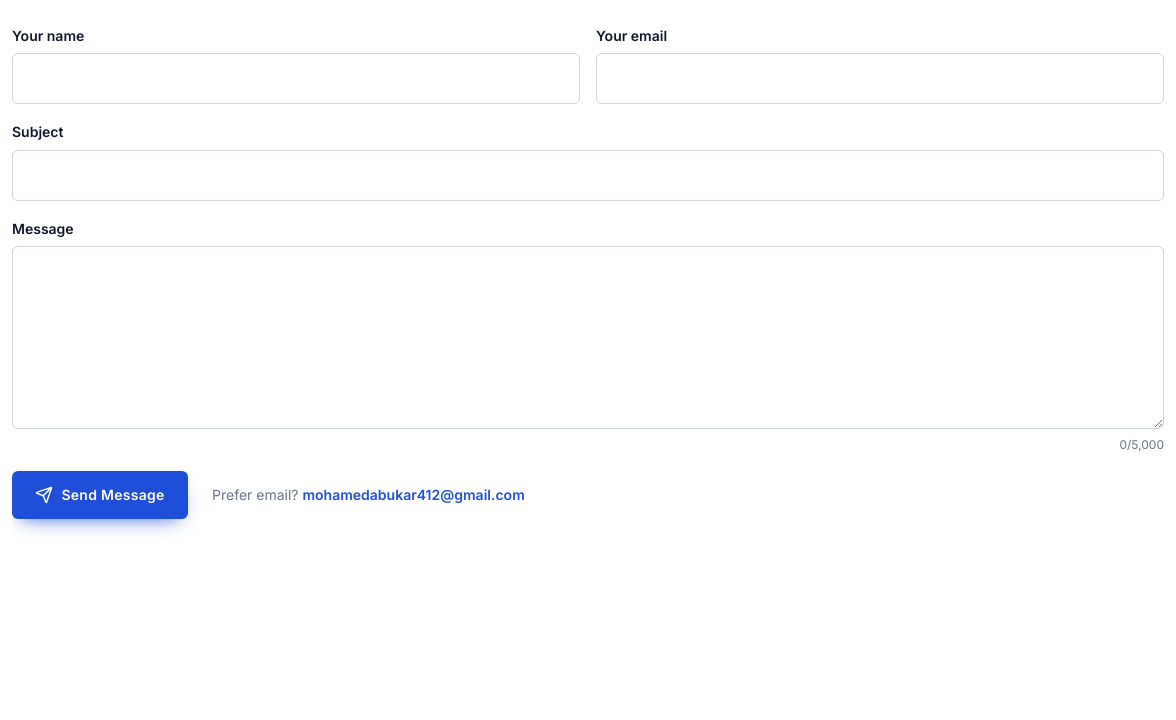
Scenario: ContactForm › shows success and clears the form only when the server confirms
This screenshot has width=1176, height=720.
Type "Jane Doe" into the field labelled "Your name" at (296, 79), box [12,54,580,104]
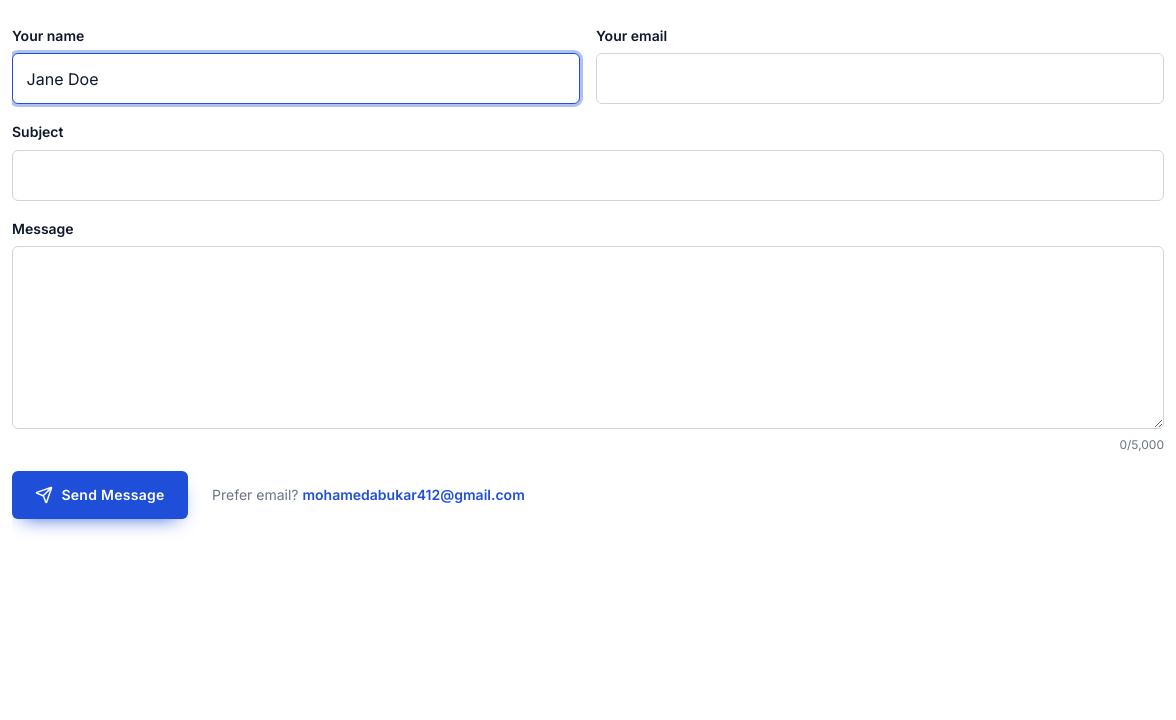
Type "jane@example.com" into the field labelled "Your email" at (880, 79), box [596,54,1164,104]
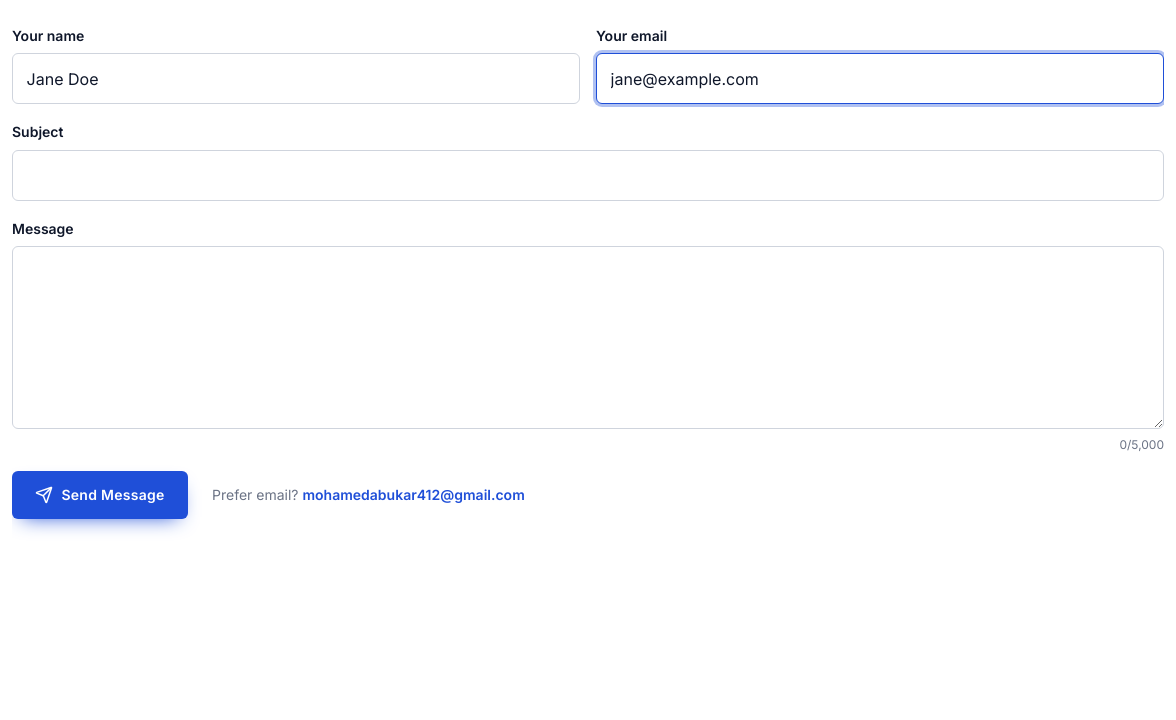
Type "Project enquiry" into the field labelled "Subject" at (588, 175), box [12,150,1164,200]
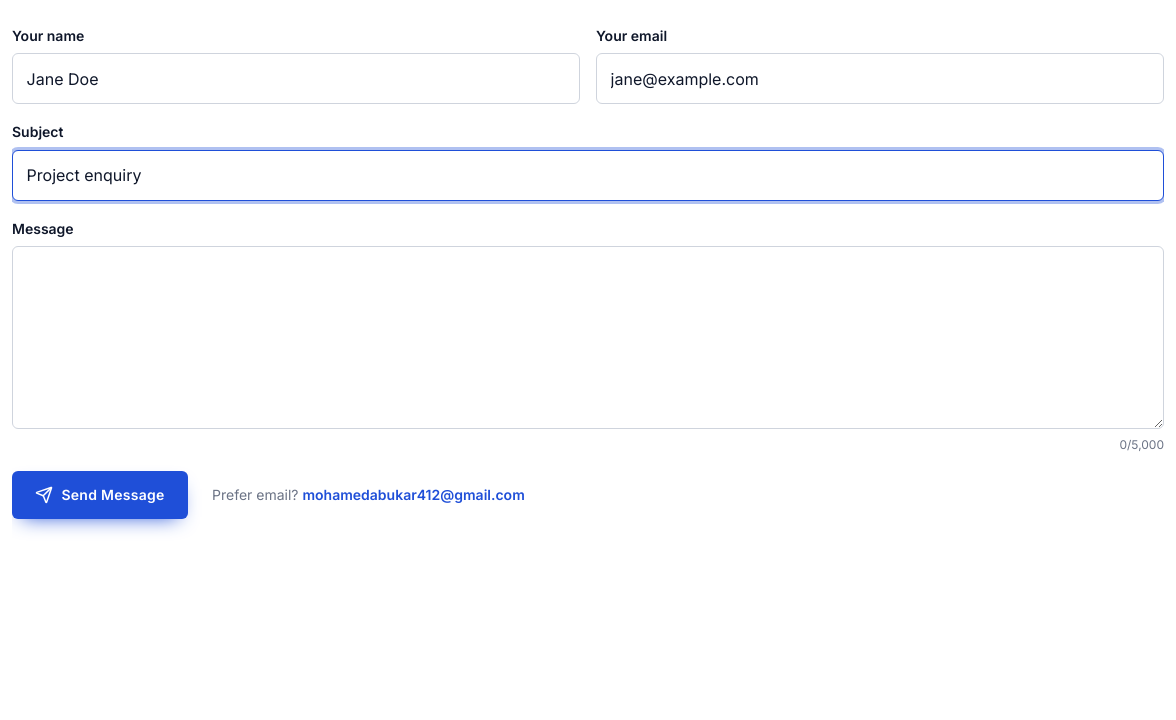
Type "Hello, I would like to talk about a project." into the text box labelled "Message" at (588, 337), box [12,246,1164,429]
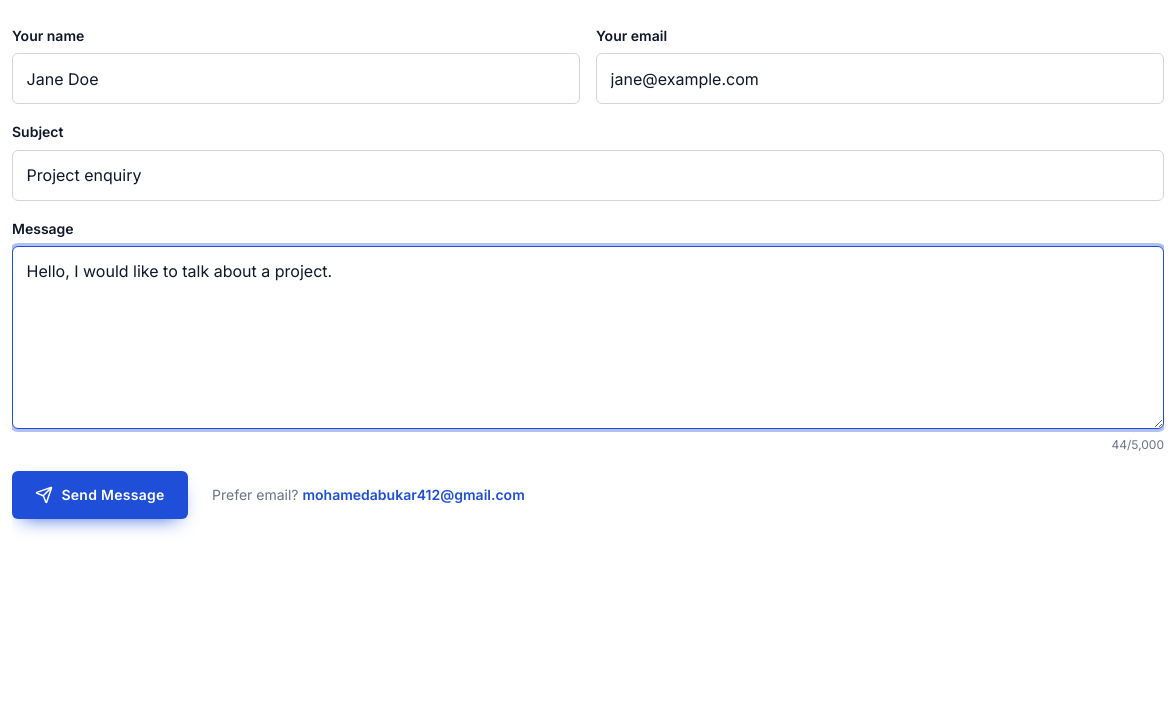
Click the button "Send Message" at (100, 495), box [12,471,188,519]
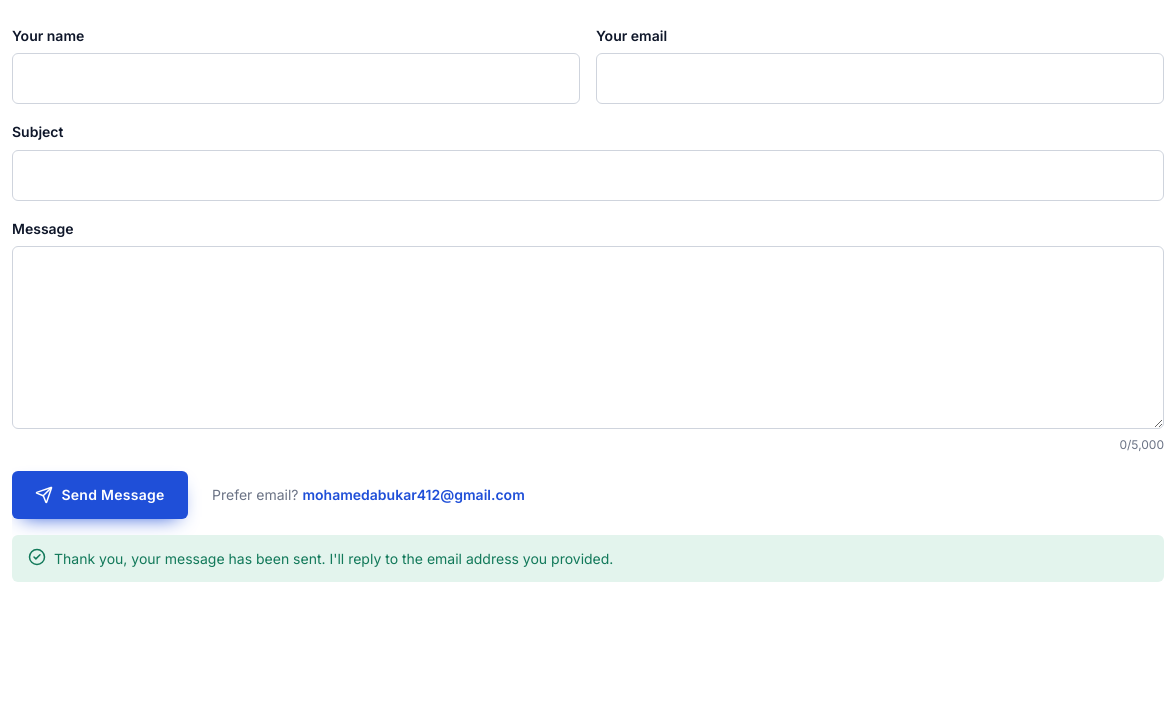
Now the text "your message has been sent" is shown, box [54,550,613,567]
Now the field labelled "Your name" is empty, box [12,54,580,104]
Now the text box labelled "Message" is empty, box [12,246,1164,429]
